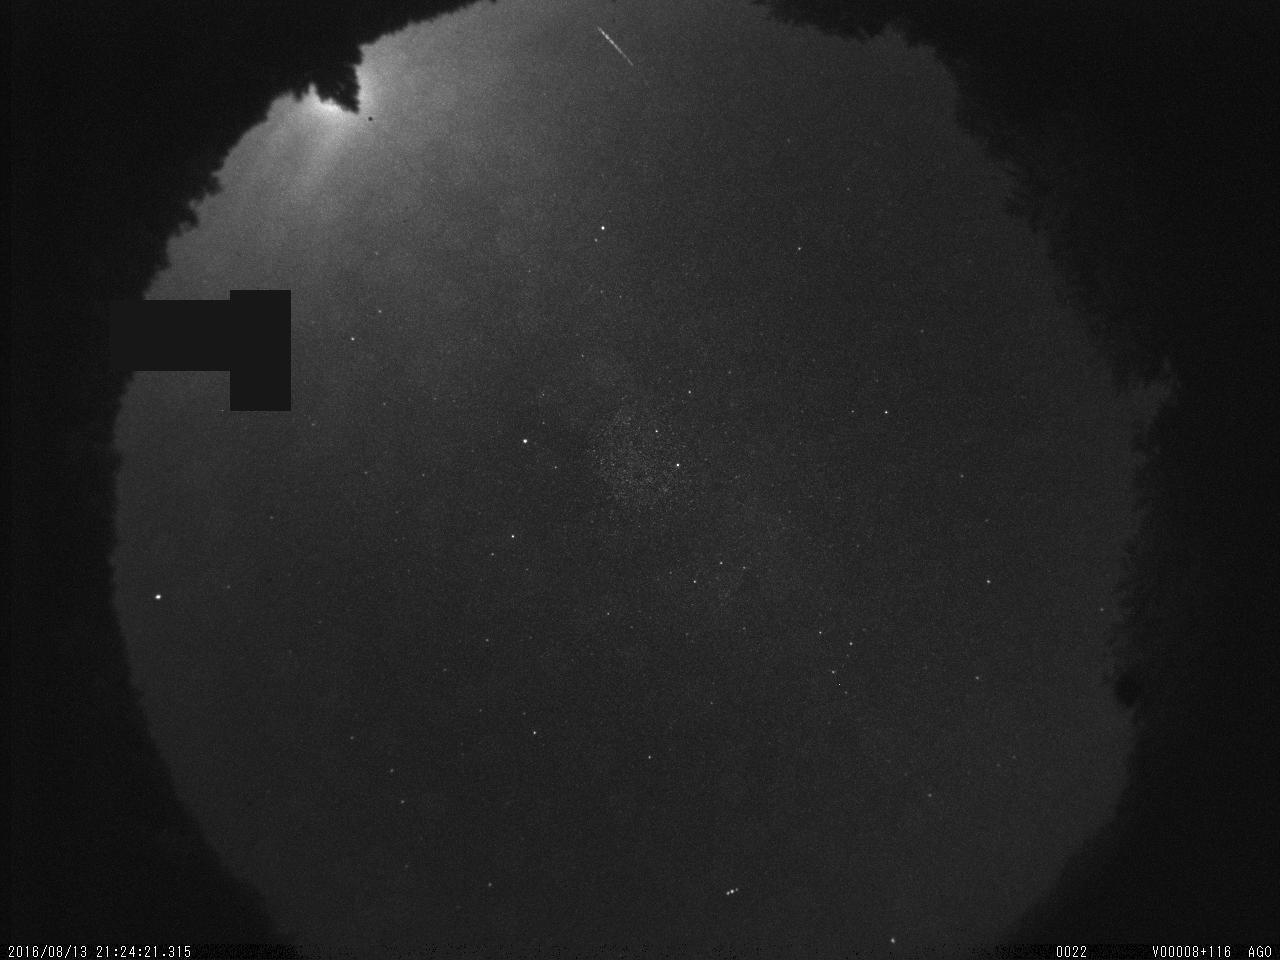meteor: (593, 23, 643, 79)
